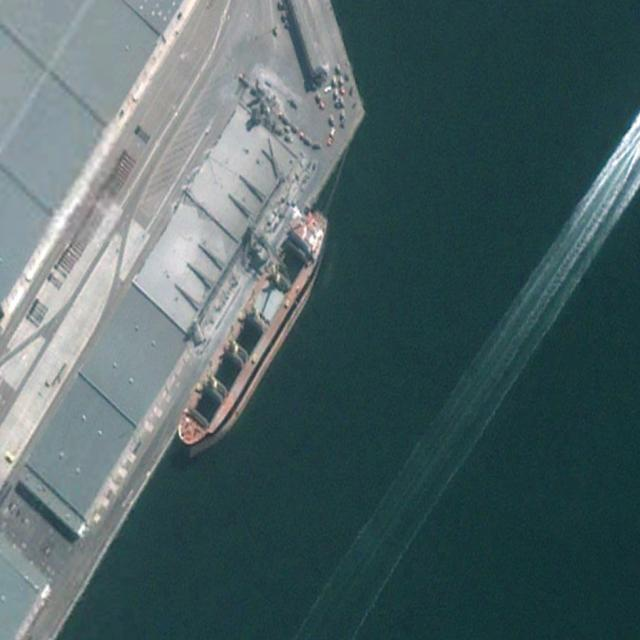Cargo: (168, 196, 345, 474)
